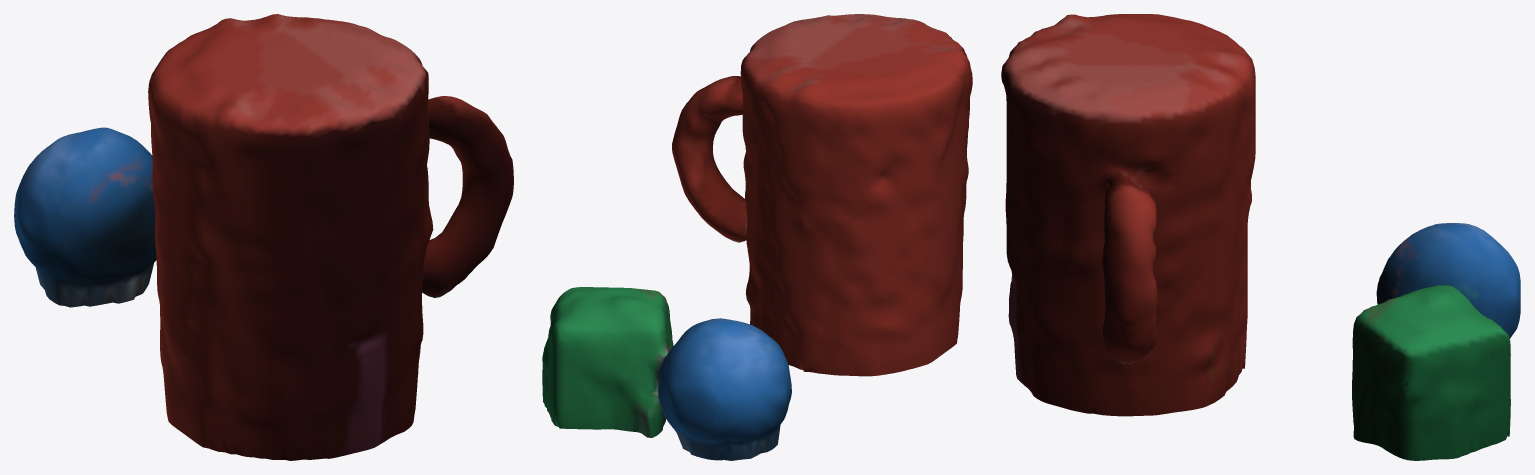
The model's file is demo.glb.
3 views of the same model, side by side, from view 1: azimuth 30°, elevation 25°; view 2: azimuth 150°, elevation 25°; view 3: azimuth 270°, elevation 25° (orthographic). The views are drawn at different scales.
Parts seen in each view (by area): view 1: Kivu demo scan; view 2: Kivu demo scan; view 3: Kivu demo scan.
Boxes of the visible parts, box(x1,y1,x2,y2) form: Kivu demo scan: box(14, 14, 513, 460); Kivu demo scan: box(542, 14, 972, 460); Kivu demo scan: box(1001, 14, 1520, 460).
Bounding box in the file's own units: 0.0897 × 0.0865 × 0.1294.
